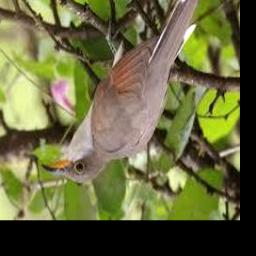Cuckoo: (41, 0, 204, 184)
